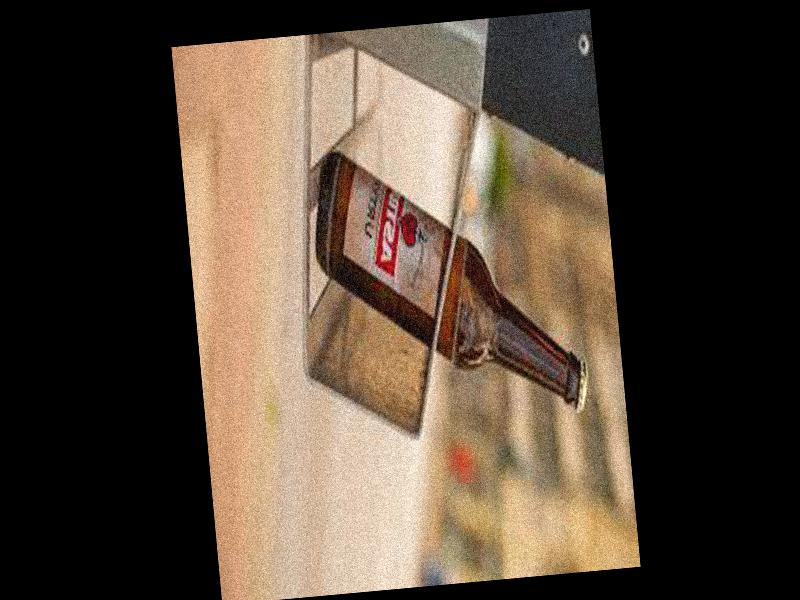Beer: (306, 127, 592, 437)
